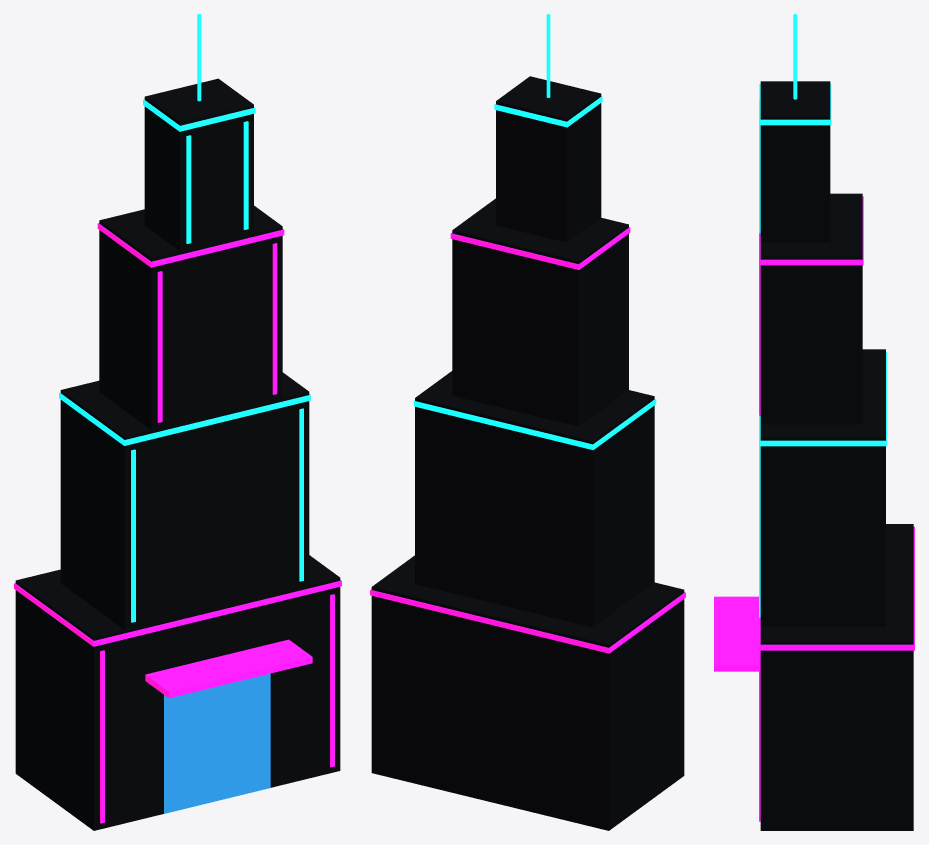
Rendered from neon-tower.glb.
3 views of the same model, side by side, from view 1: azimuth 30°, elevation 25°; view 2: azimuth 150°, elevation 25°; view 3: azimuth 270°, elevation 25° (orthographic). The views are drawn at different scales.
Parts seen in each view (by area): view 1: Neon Tower; view 2: Neon Tower; view 3: Neon Tower.
Boxes of the visible parts, x1,y1,x2,y2 form: Neon Tower: [14, 14, 341, 830]; Neon Tower: [370, 14, 685, 830]; Neon Tower: [714, 14, 914, 830].
Size of the model in its own units: 12.1 by 36 by 8.65.
